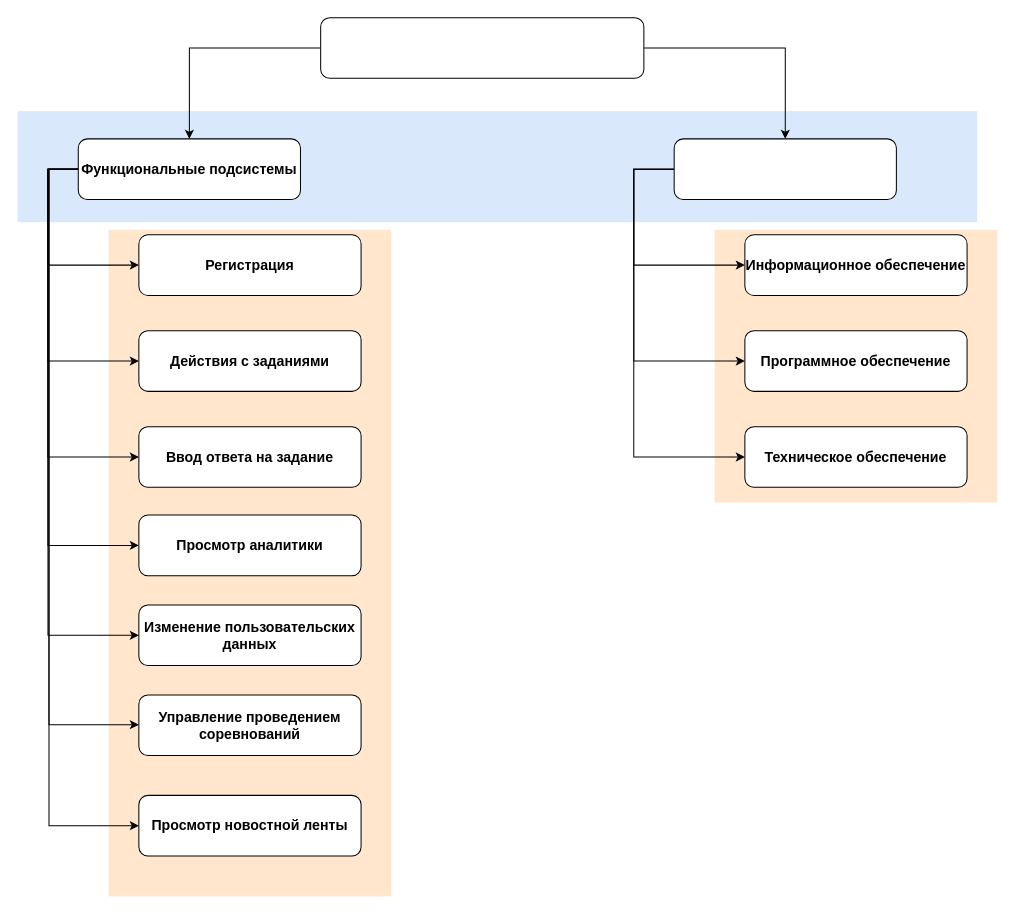
Image size: 1014x914. Some labels were removed from this diagram. Here are the shapes that lost their labels. From the top down, the box of each, then its label:
(320, 17, 644, 78): Жюрейная система SchoolCTF
(673, 138, 896, 199): Обеспечивающие подсистемы
